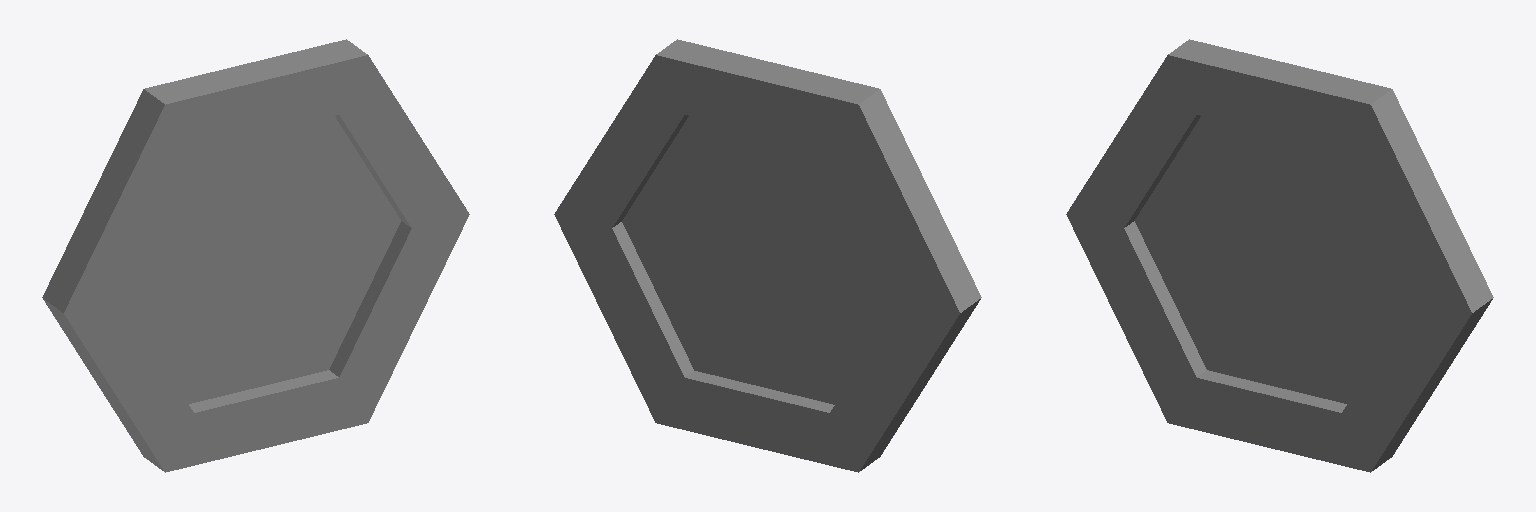
File: scaner.obj
The picture shows the model from 3 angles: view 1: azimuth 30°, elevation 25°; view 2: azimuth 150°, elevation 25°; view 3: azimuth 330°, elevation 25°; orthographic projection.
Visible parts, largest first — view 1: scanner; view 2: scanner; view 3: scanner.
Boxes of the visible parts, box(x1,y1,x2,y2) form: scanner: box(42, 39, 469, 472); scanner: box(554, 39, 981, 472); scanner: box(1066, 39, 1493, 472).
Bounding box in the file's own units: 0.943 × 0.8167 × 0.0868.